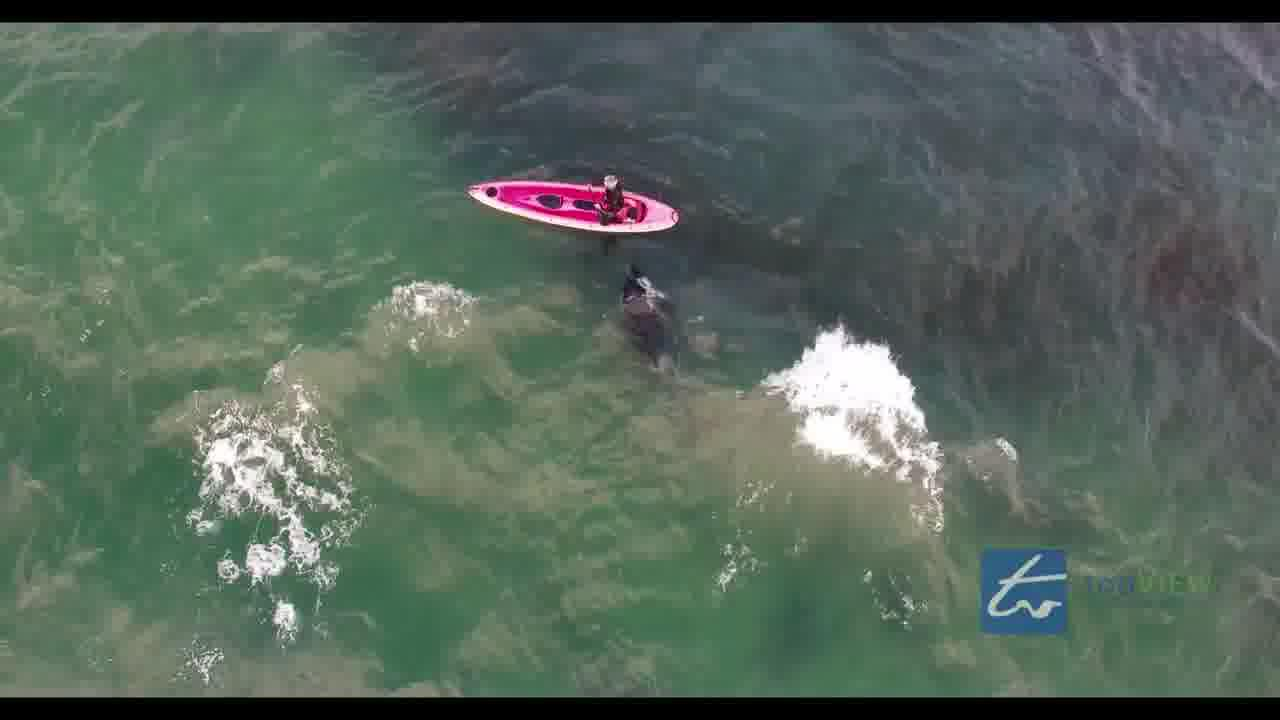human: (597, 177, 624, 215)
